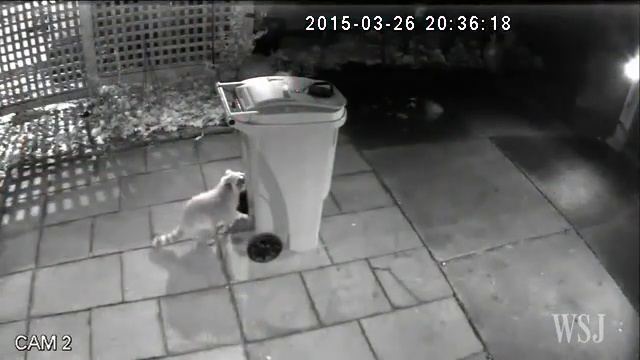raccoon: (149, 166, 255, 257)
